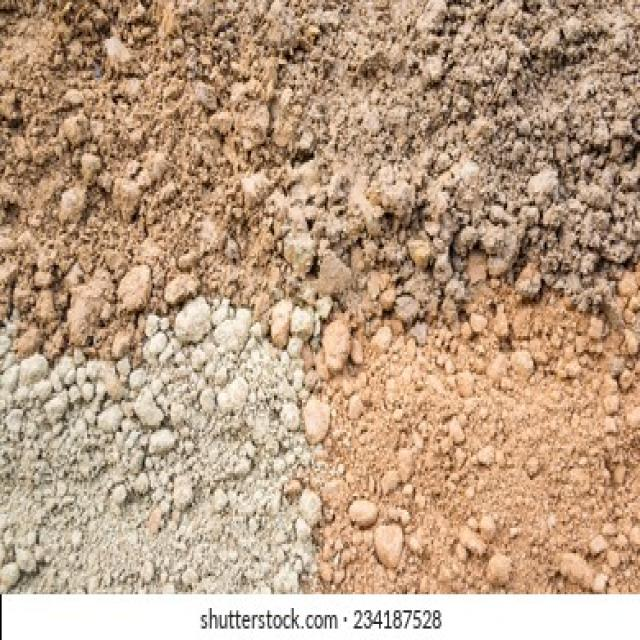Alluvial Soil: (270, 23, 616, 241)
